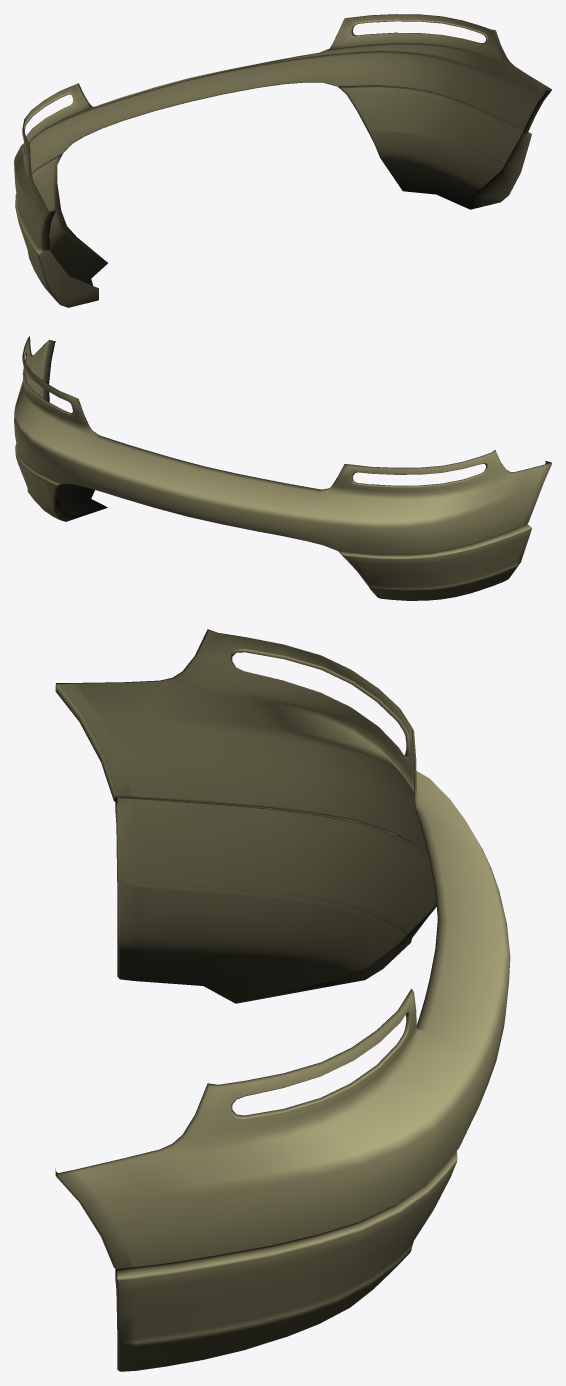
Rendered from Viper_RB_04_Duco.fbx.
3 renders of one model, top to bottom at view 1: azimuth 30°, elevation 25°; view 2: azimuth 150°, elevation 25°; view 3: azimuth 270°, elevation 25°, orthographic. The views are drawn at different scales.
Parts seen in each view (by area): view 1: Viper_RB_04_Duco; view 2: Viper_RB_04_Duco; view 3: Viper_RB_04_Duco.
Part boxes in pixels (box(x1,y1,x2,y2)): Viper_RB_04_Duco: box(14, 14, 551, 307); Viper_RB_04_Duco: box(14, 336, 551, 600); Viper_RB_04_Duco: box(55, 629, 510, 1371).
Bounding box in the file's own units: 191 × 55.09 × 74.54.
